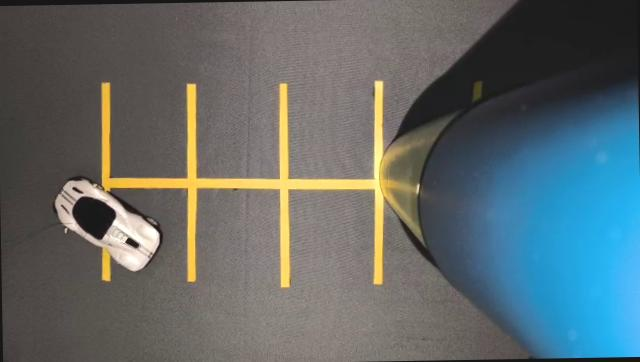toy_car: (41, 156, 184, 298)
